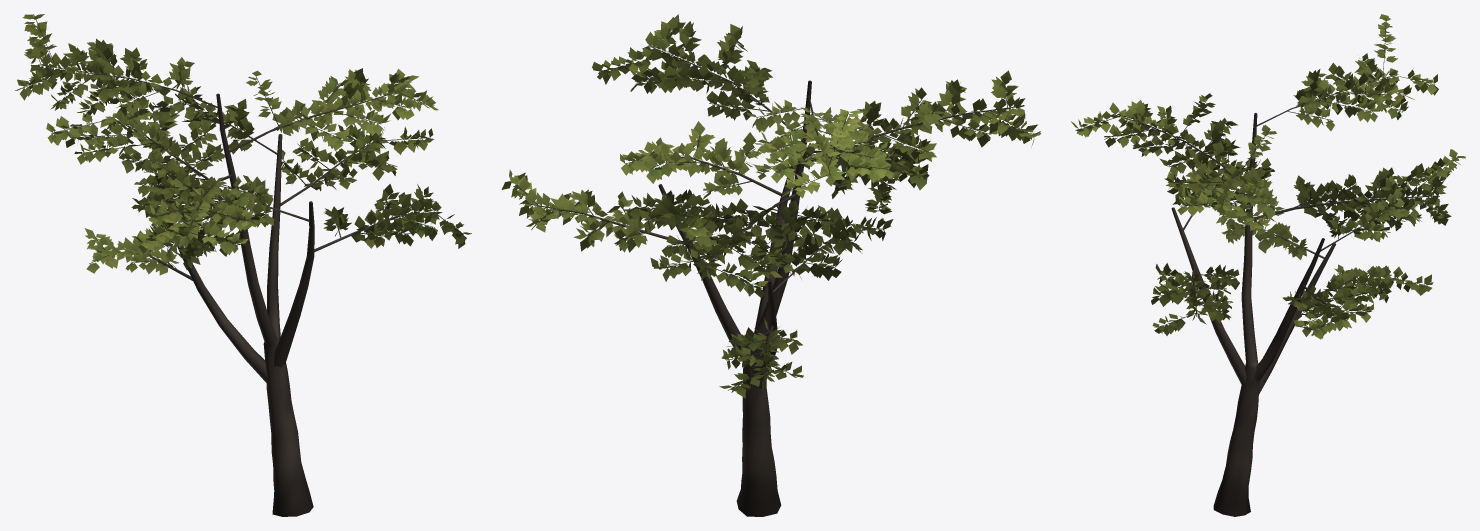
The model's file is acacia-a.lod0.glb.
3 views of the same model, side by side, from view 1: azimuth 30°, elevation 25°; view 2: azimuth 150°, elevation 25°; view 3: azimuth 270°, elevation 25° (orthographic). The views are drawn at different scales.
Bounding box in the file's own units: 6.21 × 7.05 × 6.03.
